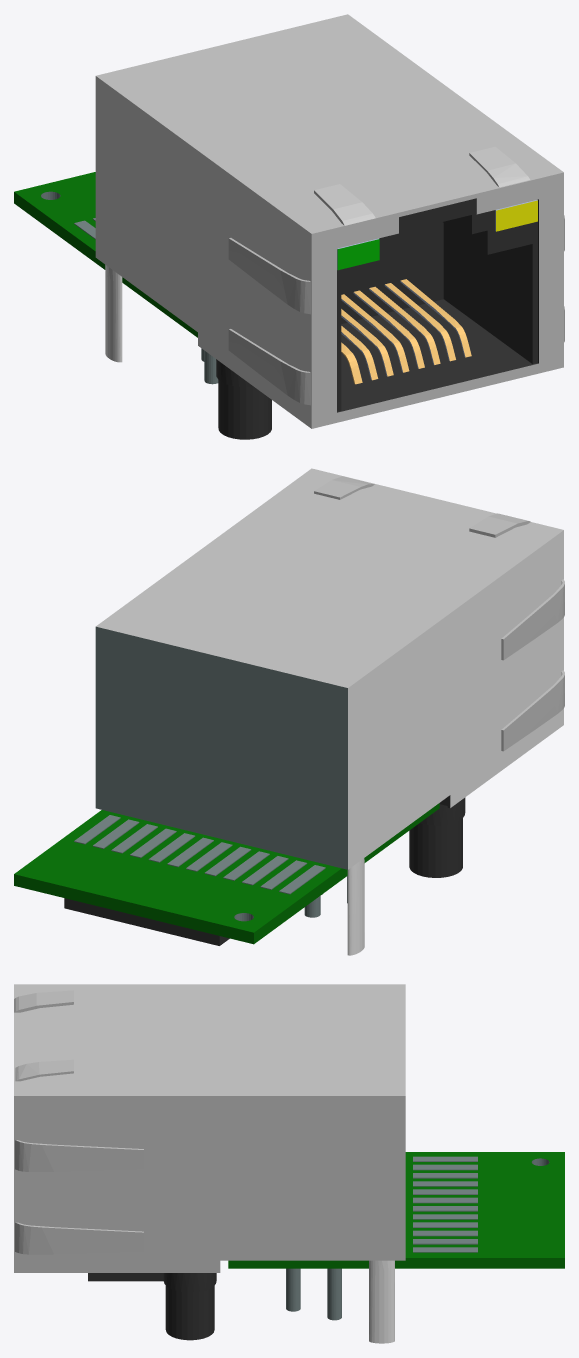
File: MiiNePort_E1.obj
3 renders of one model, top to bottom at view 1: azimuth 30°, elevation 25°; view 2: azimuth 150°, elevation 25°; view 3: azimuth 270°, elevation 25°, orthographic. The views are drawn at different scales.
Parts seen in each view (by area): view 1: MiiNePort_E1; view 2: MiiNePort_E1; view 3: MiiNePort_E1.
Part boxes in pixels (x1,y1,x2,y2): MiiNePort_E1: (14,14,564,439); MiiNePort_E1: (14,468,564,955); MiiNePort_E1: (14,984,564,1343).
Size of the model in its own units: 0.0095 by 0.00937 by 0.0182.
